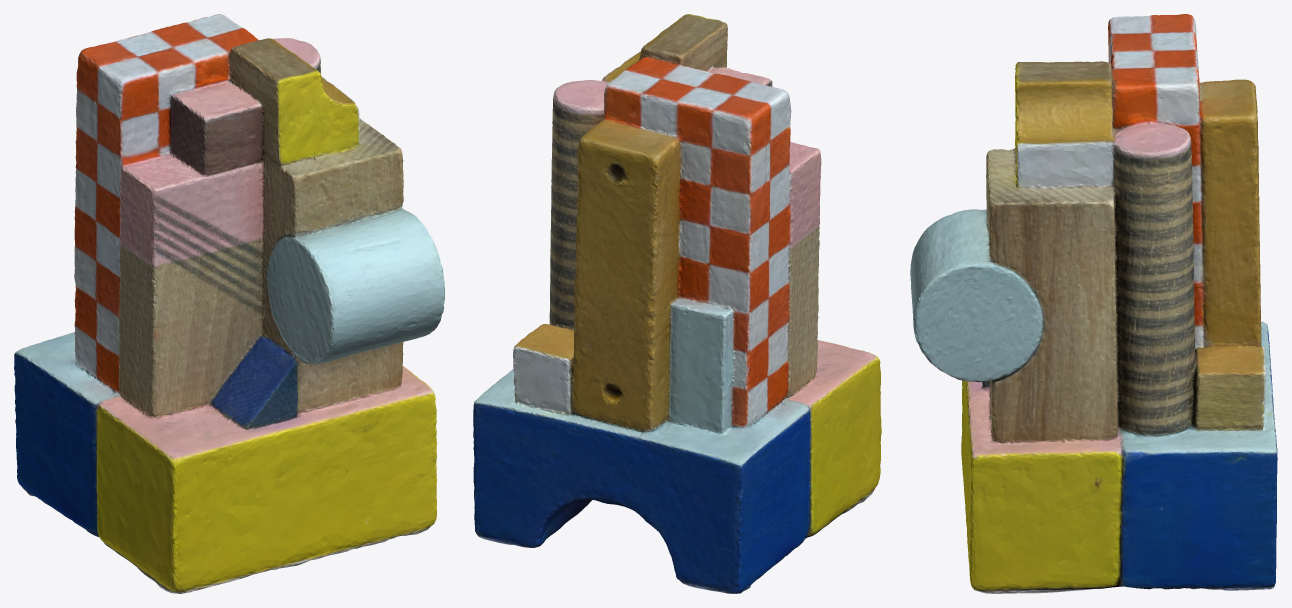
Rendered from Kompleks_1.fbx.
3 views of the same model, side by side, from view 1: azimuth 30°, elevation 25°; view 2: azimuth 150°, elevation 25°; view 3: azimuth 270°, elevation 25° (orthographic). The views are drawn at different scales.
Parts seen in each view (by area): view 1: Object; view 2: Object; view 3: Object.
Boxes of the visible parts, left/top/right/bottom form: Object: left=14, top=14, right=444, bottom=593; Object: left=473, top=14, right=881, bottom=593; Object: left=910, top=14, right=1277, bottom=593.
Size of the model in its own units: 8.32 by 13.5 by 9.5.
Materials: 1 (1 with a texture image).
